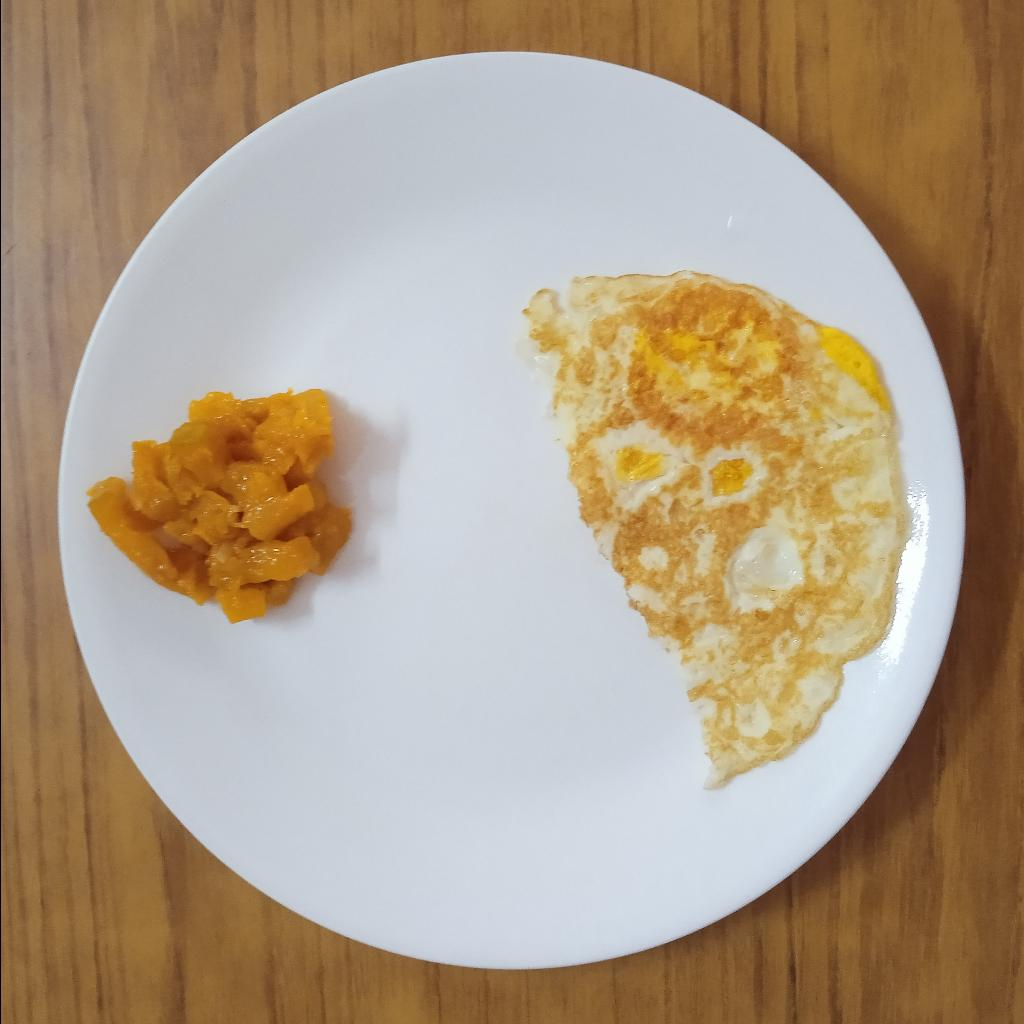egg-poached: (521, 269, 915, 784)
kumra-vaji: (86, 386, 357, 624)
